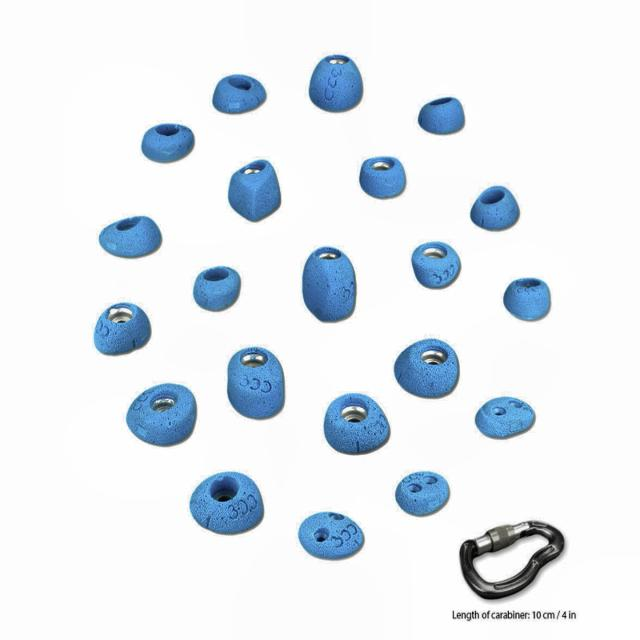Hold: (184, 469, 268, 536), (122, 382, 199, 444), (324, 387, 390, 456), (229, 342, 285, 422), (386, 335, 458, 396), (304, 243, 358, 322), (309, 52, 368, 112), (92, 300, 154, 356), (298, 509, 367, 559), (228, 159, 282, 221), (97, 215, 165, 263), (474, 393, 538, 440), (471, 178, 524, 233), (408, 238, 464, 288), (398, 465, 449, 516), (502, 271, 552, 322), (358, 154, 411, 202), (192, 264, 244, 312), (139, 123, 197, 163), (213, 72, 264, 116), (416, 93, 463, 137)
